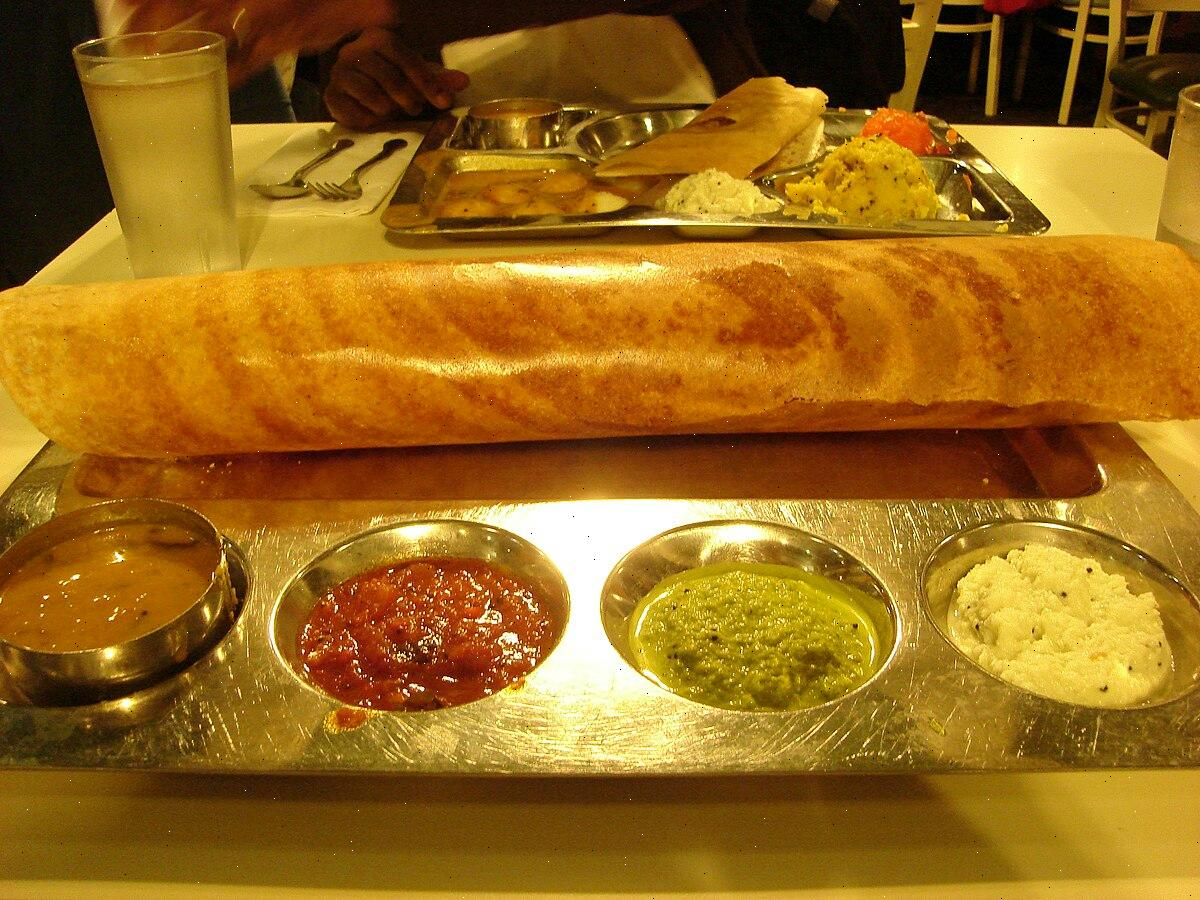coconut chutney: (971, 516, 1182, 710)
dosa: (20, 243, 1200, 438)
sambhar: (3, 496, 244, 680)
